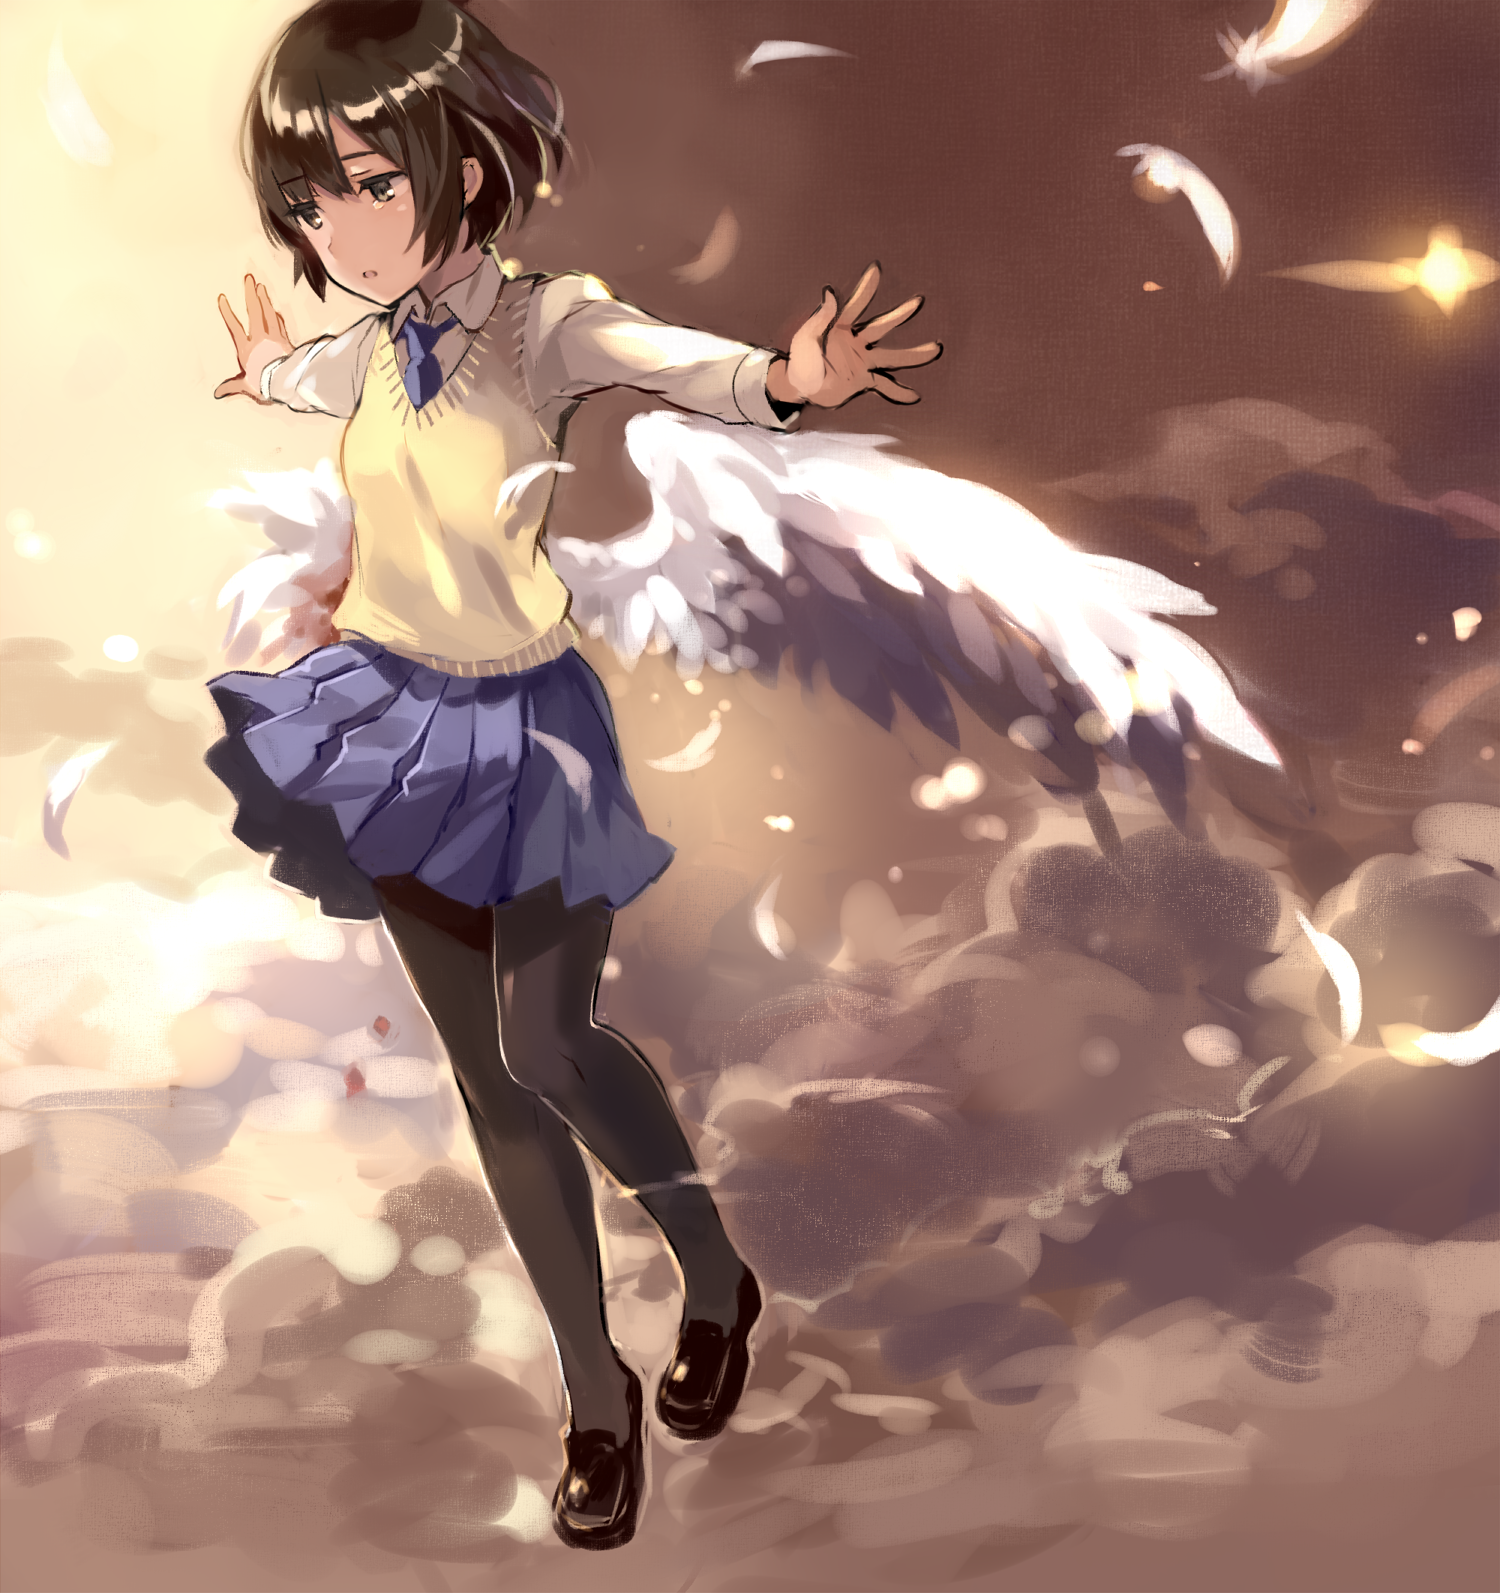纸片人正脸: (222, 17, 548, 325)
